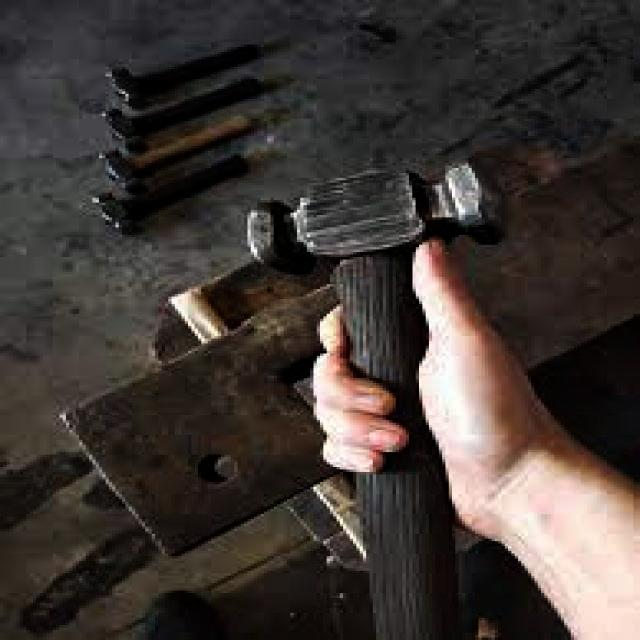hammer: (246, 153, 530, 640)
